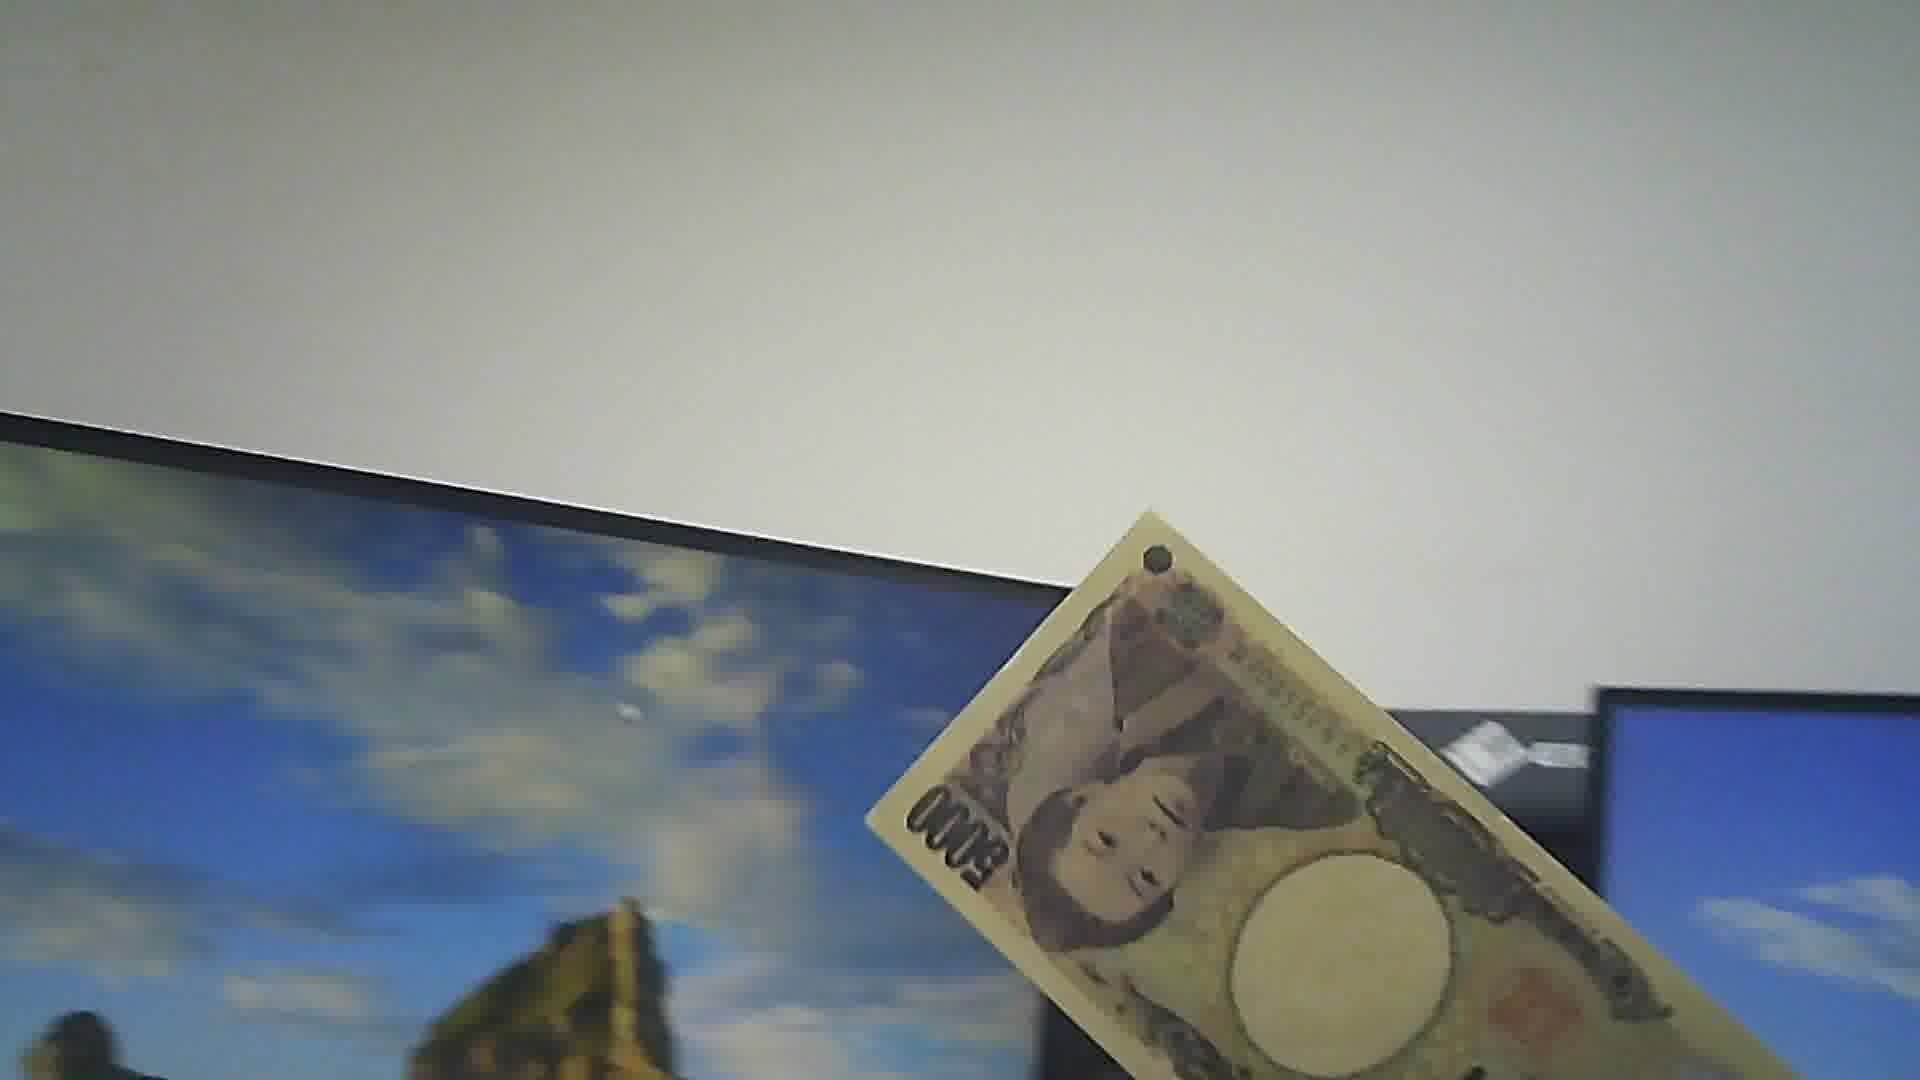5,000 Yen: (869, 506, 1787, 1079)
